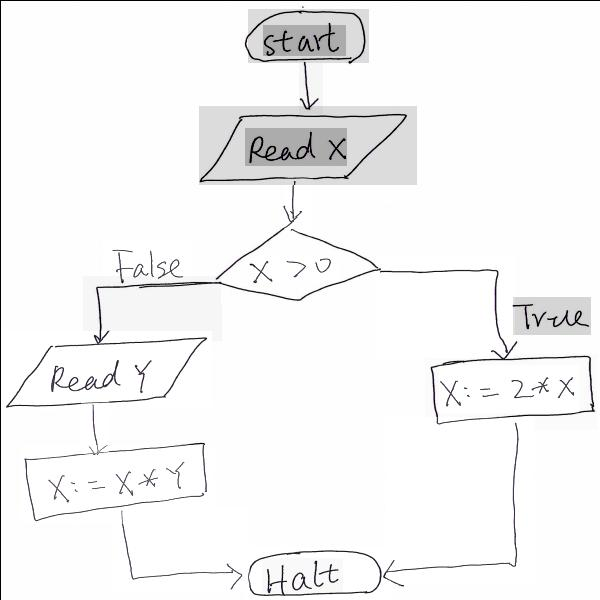arrow: (385, 416, 533, 584), (375, 257, 514, 357), (112, 507, 249, 592), (82, 275, 221, 340), (284, 176, 312, 232), (80, 401, 108, 453), (298, 62, 322, 113)
data: (199, 106, 416, 184), (4, 331, 211, 409)
decision: (214, 216, 389, 303)
process: (20, 444, 214, 523), (424, 353, 596, 429)
terminator: (244, 545, 390, 600), (247, 8, 368, 62)
text: (37, 454, 190, 500), (438, 363, 578, 412), (48, 358, 161, 394), (244, 127, 346, 165), (101, 240, 190, 280), (512, 296, 590, 334), (261, 557, 342, 592), (262, 24, 345, 55), (255, 257, 338, 281)
